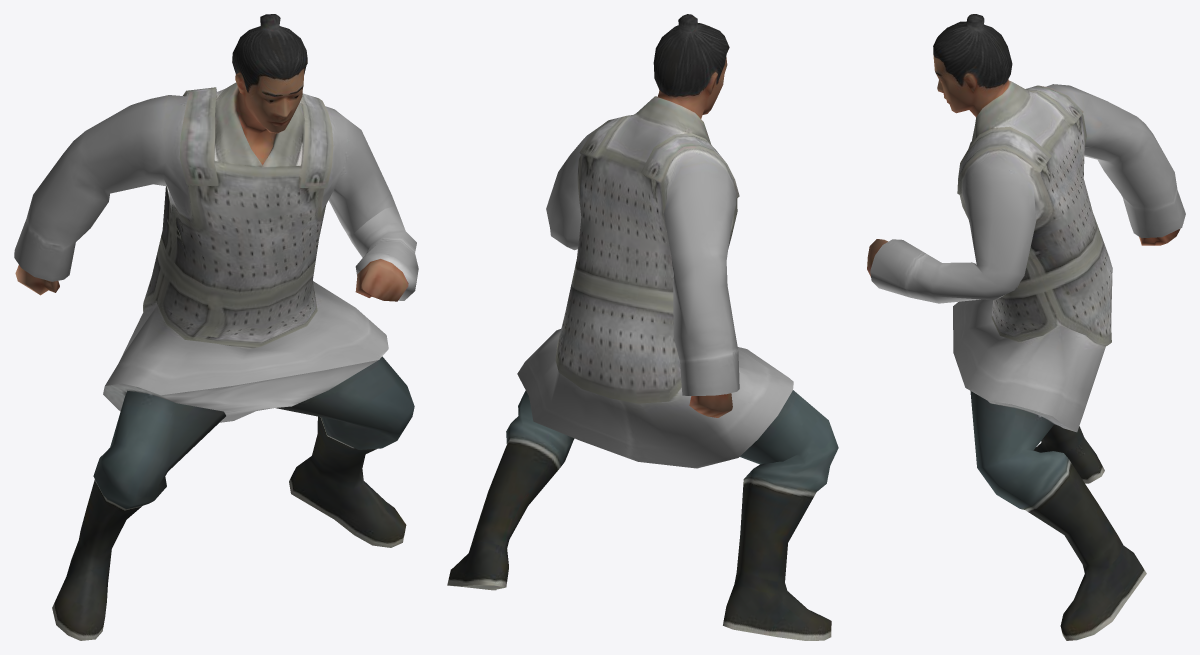
File: rider-slice-base.glb
3 views of the same model, side by side, from view 1: azimuth 30°, elevation 25°; view 2: azimuth 150°, elevation 25°; view 3: azimuth 270°, elevation 25° (orthographic). The views are drawn at different scales.
Bounding box in the file's own units: 1.19 × 1.88 × 0.9955.
Materials: 1 (1 with a texture image).
